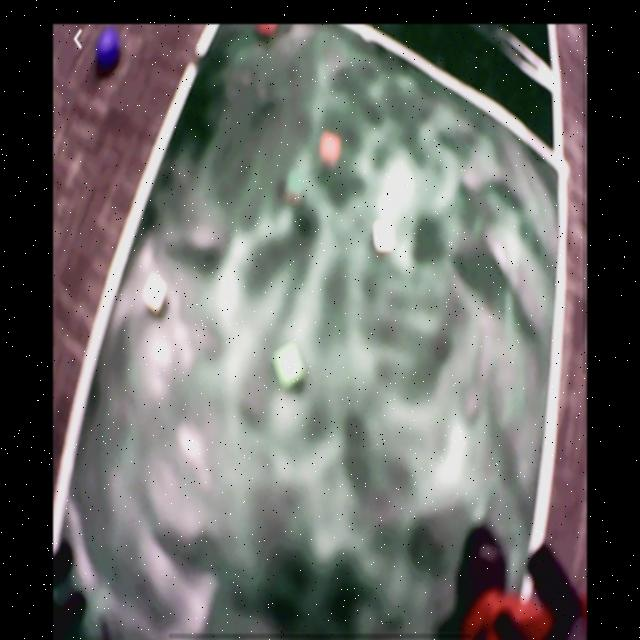ball: (96, 33, 122, 74)
